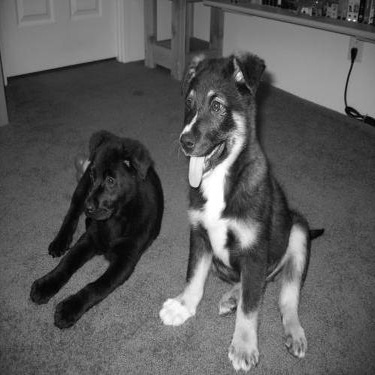dog: (154, 38, 327, 372), (24, 122, 166, 336)
